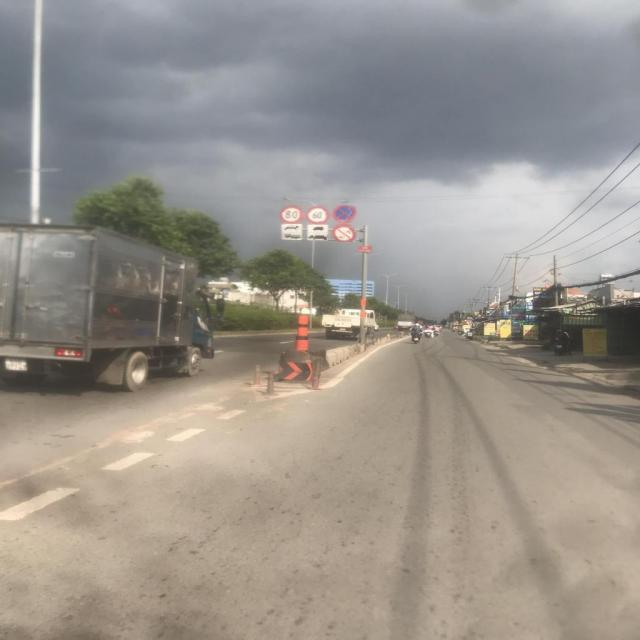cam_dung_xe_va_do_xe: (332, 206, 357, 223)
cam_xe_2_banh_va_xe_3_banh_co_dong_co: (332, 225, 356, 242)
khac: (282, 232, 302, 240), (307, 232, 327, 240), (281, 225, 302, 232), (307, 225, 328, 232)
toc_do_toi_da_60: (306, 207, 331, 224)
toc_do_toi_da_80: (280, 206, 304, 223)
